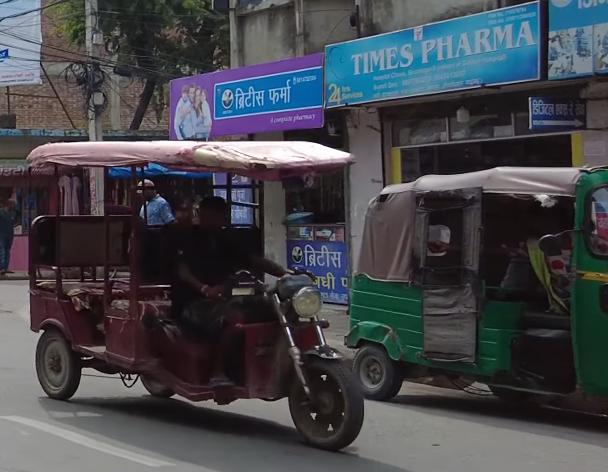e-rickshaw: (21, 134, 381, 457), (344, 161, 608, 431)
